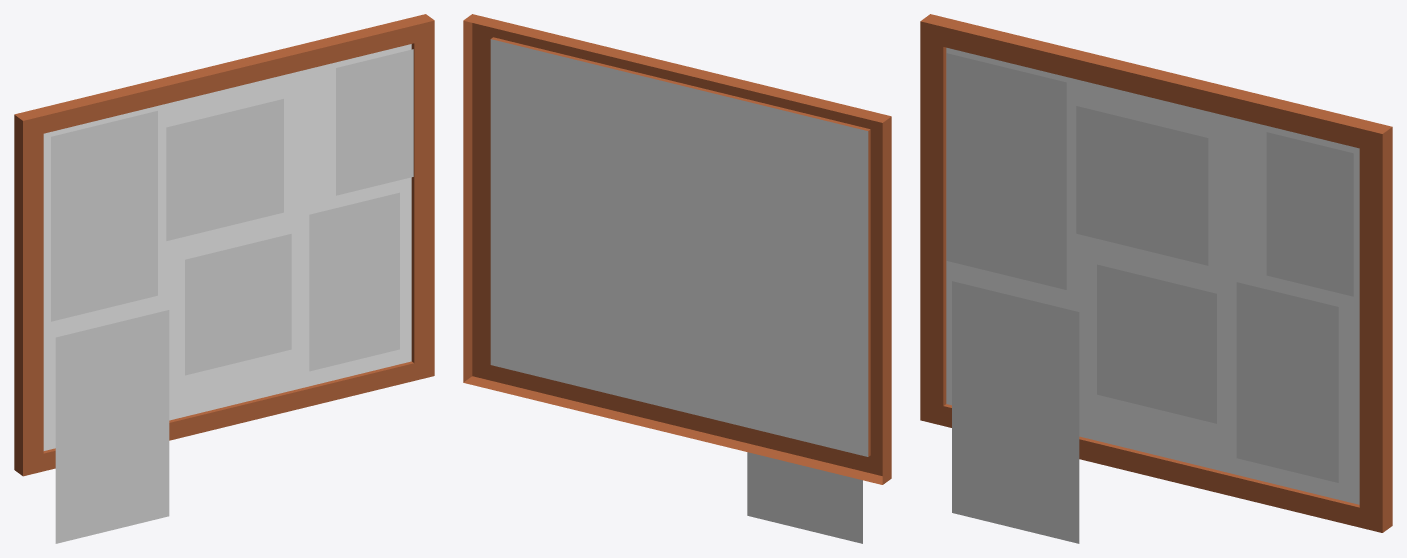
The model's file is Bulletin.fbx.
3 renders of one model, left to right at view 1: azimuth 30°, elevation 25°; view 2: azimuth 150°, elevation 25°; view 3: azimuth 330°, elevation 25°, orthographic. The views are drawn at different scales.
Parts seen in each view (by area): view 1: Bulletin.001; view 2: Bulletin.001; view 3: Bulletin.001.
Boxes of the visible parts, box(x1,y1,x2,y2) form: Bulletin.001: box(14, 14, 434, 543); Bulletin.001: box(463, 14, 891, 543); Bulletin.001: box(920, 14, 1392, 543).
Bounding box in the file's own units: 200 × 199 × 9.38.
